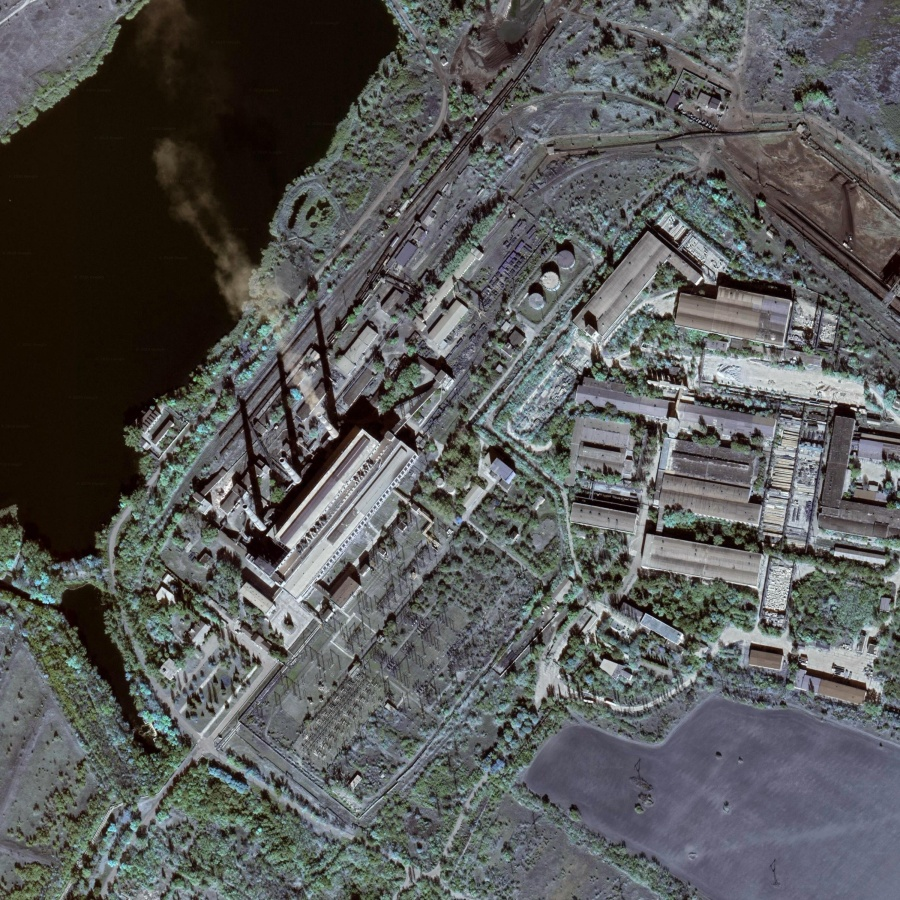PowerPlant: (202, 227, 567, 584)
